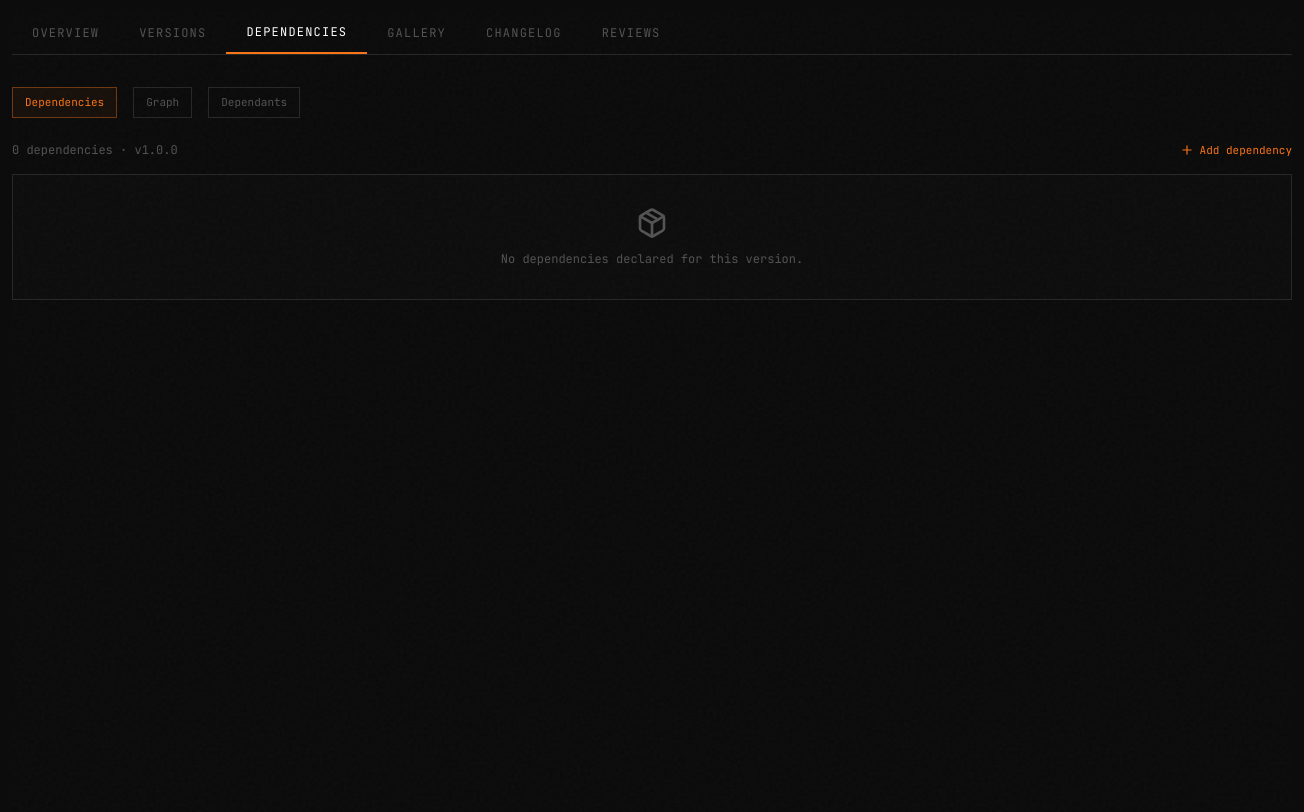
Scenario: PluginContent › shows error when add dependency fails
This screenshot has width=1304, height=812.
Click the button "Add dependency" at point(1236, 150), box top-left (1180, 142), bottom-right (1292, 158)
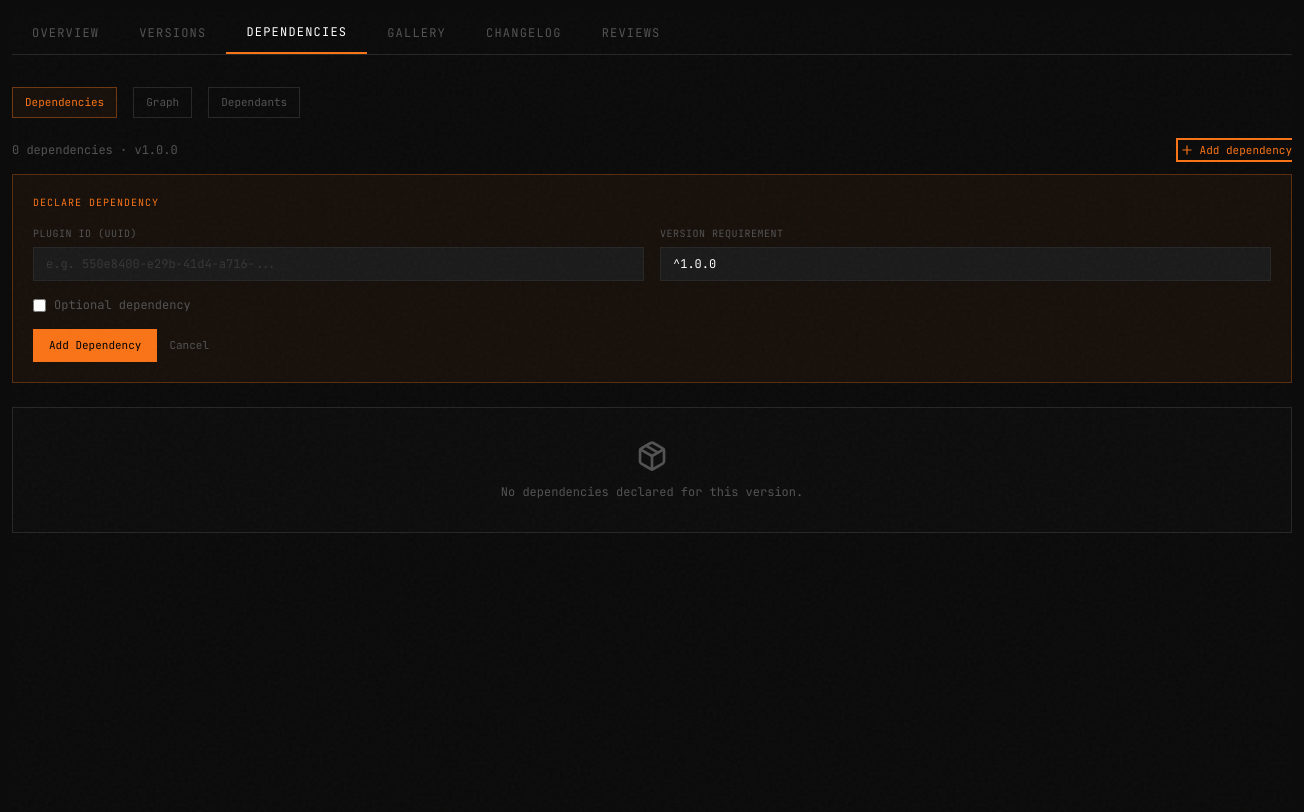
Type "p2" into the field with placeholder "e.g. 550e8400-e29b-41d4-a716-..." at point(338, 264), box top-left (33, 247), bottom-right (644, 281)
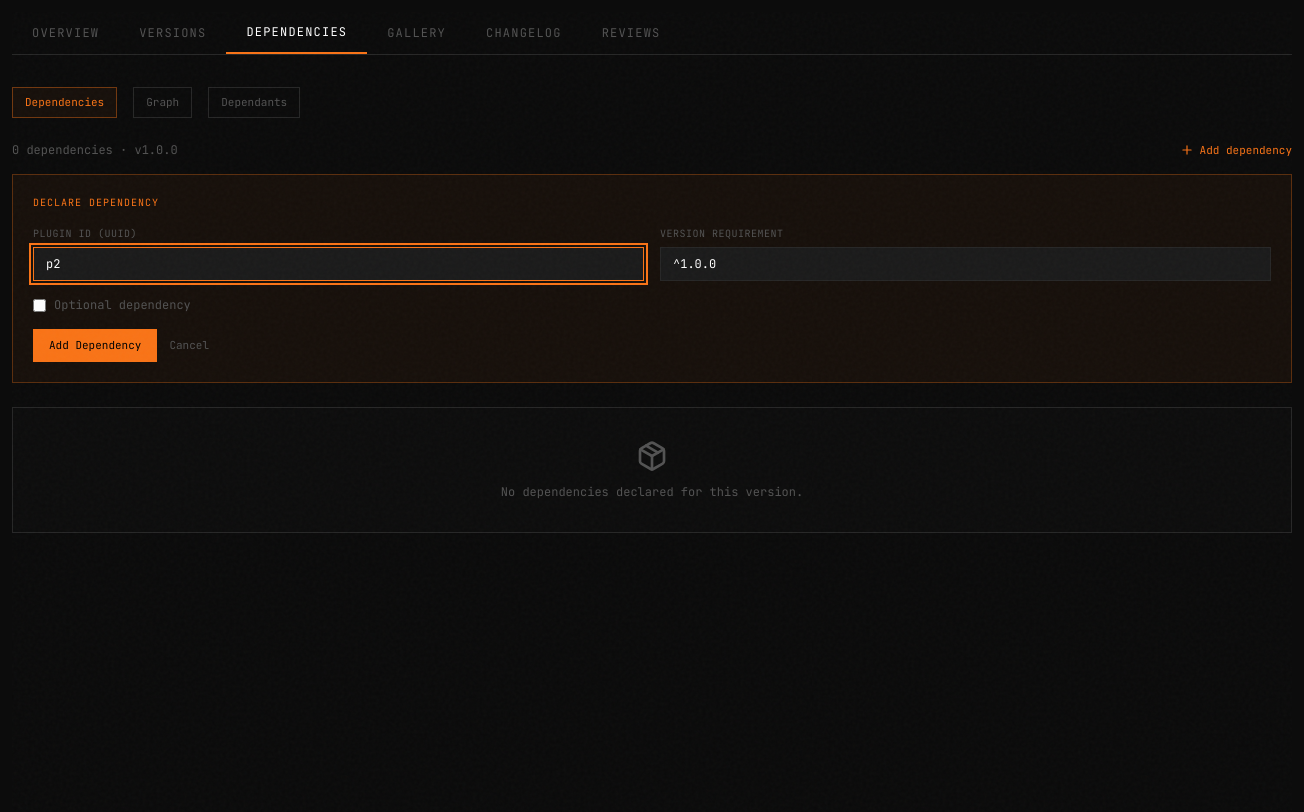
Click the button "Add Dependency" at point(95, 345), box top-left (33, 329), bottom-right (157, 362)
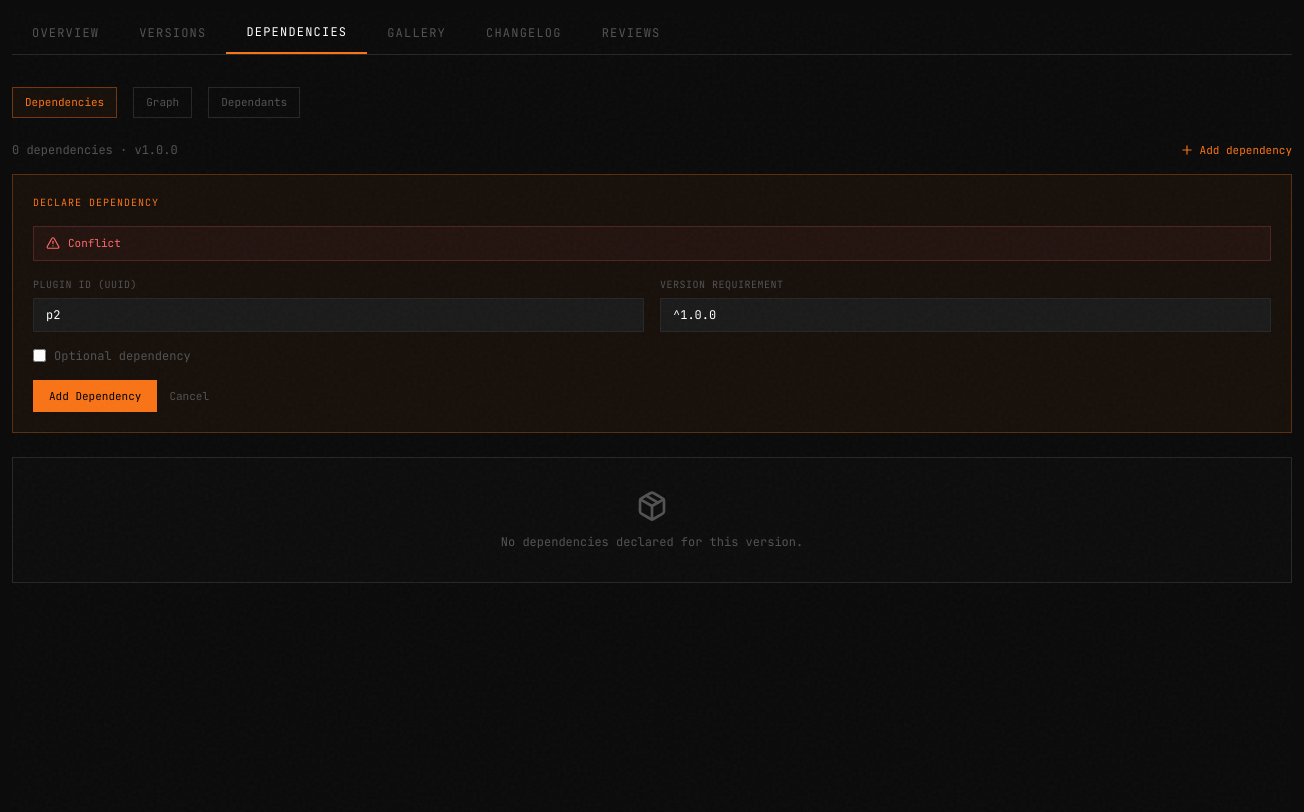
Now the text "Conflict" is shown, box top-left (33, 226), bottom-right (1271, 260)
